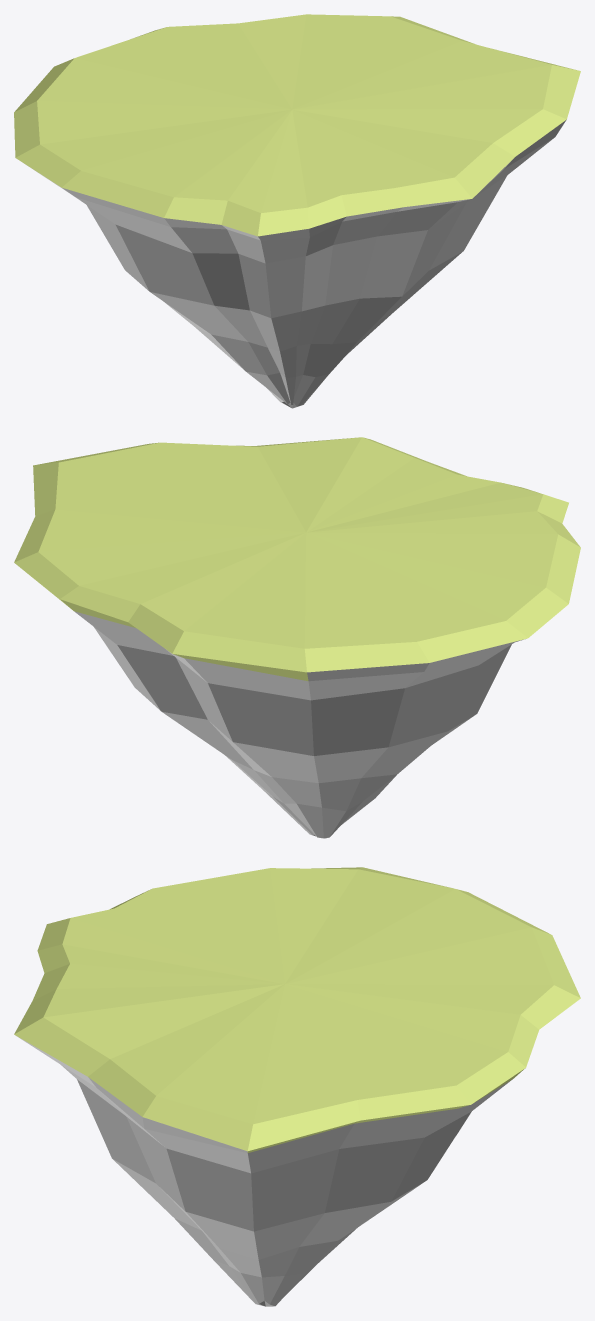
Rendered from FLOATINGISLAND3.fbx.
3 renders of one model, top to bottom at view 1: azimuth 30°, elevation 25°; view 2: azimuth 150°, elevation 25°; view 3: azimuth 270°, elevation 25°, orthographic. The views are drawn at different scales.
Parts seen in each view (by area): view 1: Vert.001, Vert; view 2: Vert.001, Vert; view 3: Vert.001, Vert.
Part boxes in pixels (x1=…): Vert.001: x1=14, y1=14, x2=580, y2=236; Vert: x1=27, y1=119, x2=566, y2=408; Vert.001: x1=14, y1=437, x2=580, y2=681; Vert: x1=74, y1=611, x2=525, y2=838; Vert.001: x1=14, y1=867, x2=580, y2=1152; Vert: x1=17, y1=1036, x2=512, y2=1306.
Size of the model in its own units: 833 by 450 by 706.
